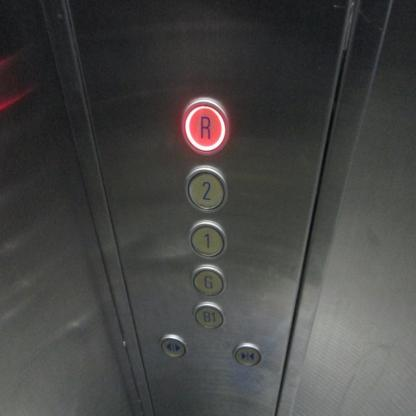1: (187, 217, 228, 262)
2: (183, 165, 227, 213)
B1: (193, 298, 226, 332)
G: (190, 262, 226, 298)
R: (180, 96, 230, 157)
close: (232, 342, 264, 369)
open: (158, 332, 187, 361)
